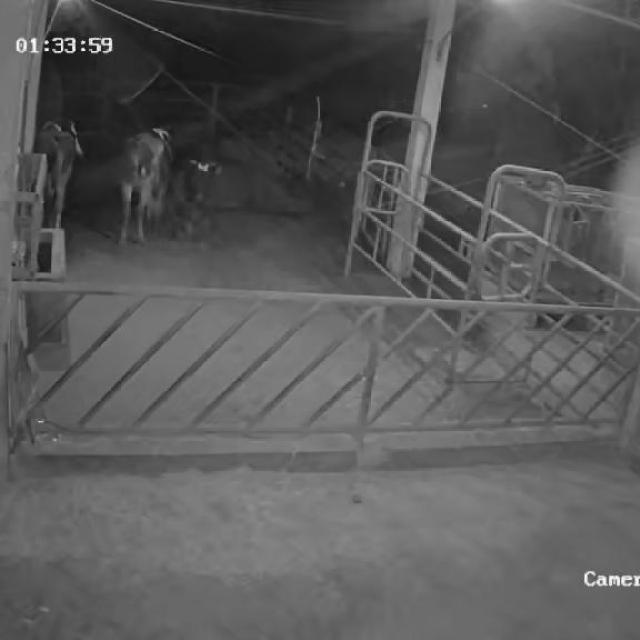lying down: (171, 155, 217, 251)
standing: (109, 126, 170, 248), (36, 107, 86, 242)
